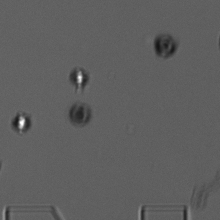Dead Cell: (152, 34, 178, 58), (69, 101, 91, 126)
Living Cell: (10, 110, 32, 133), (68, 66, 89, 88)
